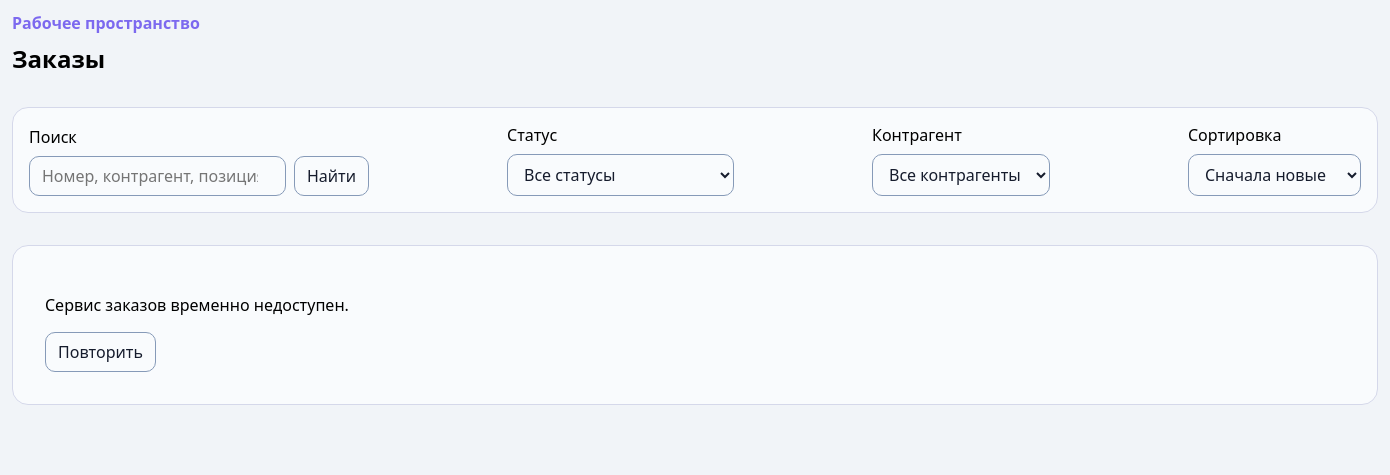
Scenario: Orders list › replaces stale data with a useful failure state and retries through the seam
The width and height of the screenshot is (1390, 475).
Check: the message "Сервис заказов временно недоступен. Повторить" is shown, box x1=12 y1=245 x2=1378 y2=405
Click the button "Повторить" at (100, 352), box x1=45 y1=332 x2=156 y2=372
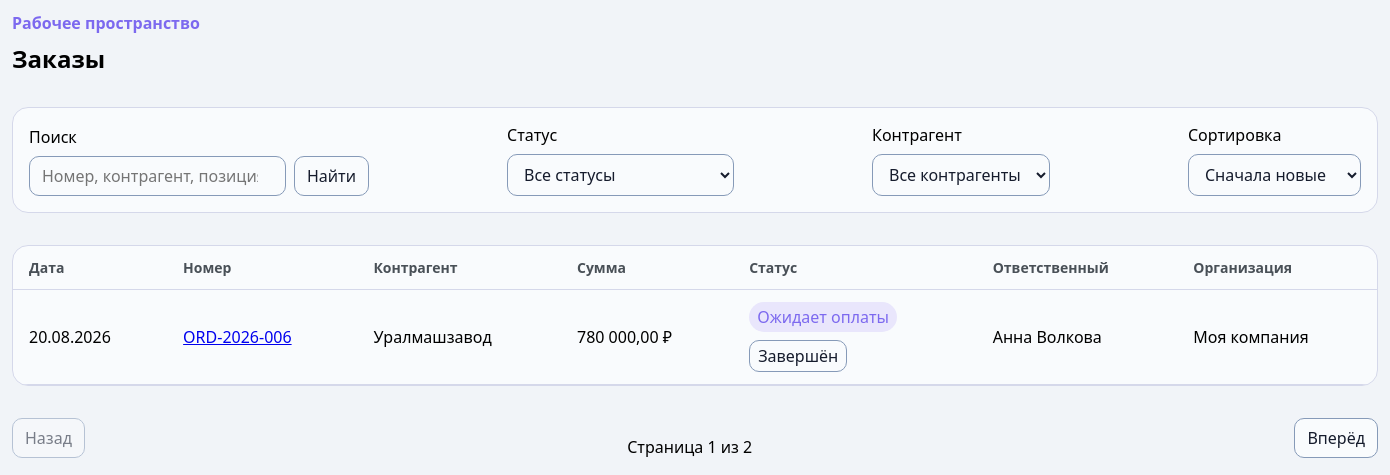
Check: the table shows "ORD-2026-006", box x1=183 y1=326 x2=292 y2=348
